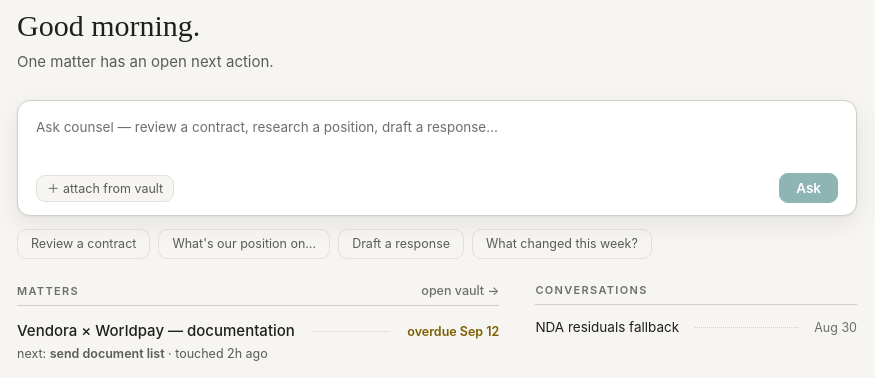
Test case: HomePage › a starter fills the box and sends nothing
Click the button "Review a contract".
click(84, 244)  # box [17,229,150,259]
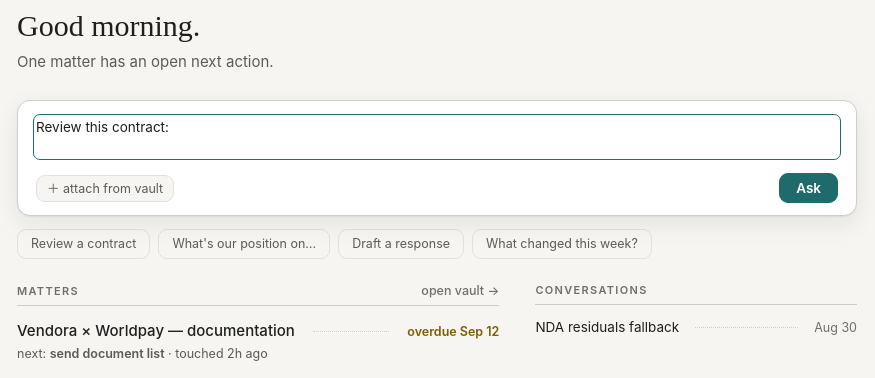
Now the text box named "Ask counsel" holds "Review this contract: ", box [36,116,838,157]
